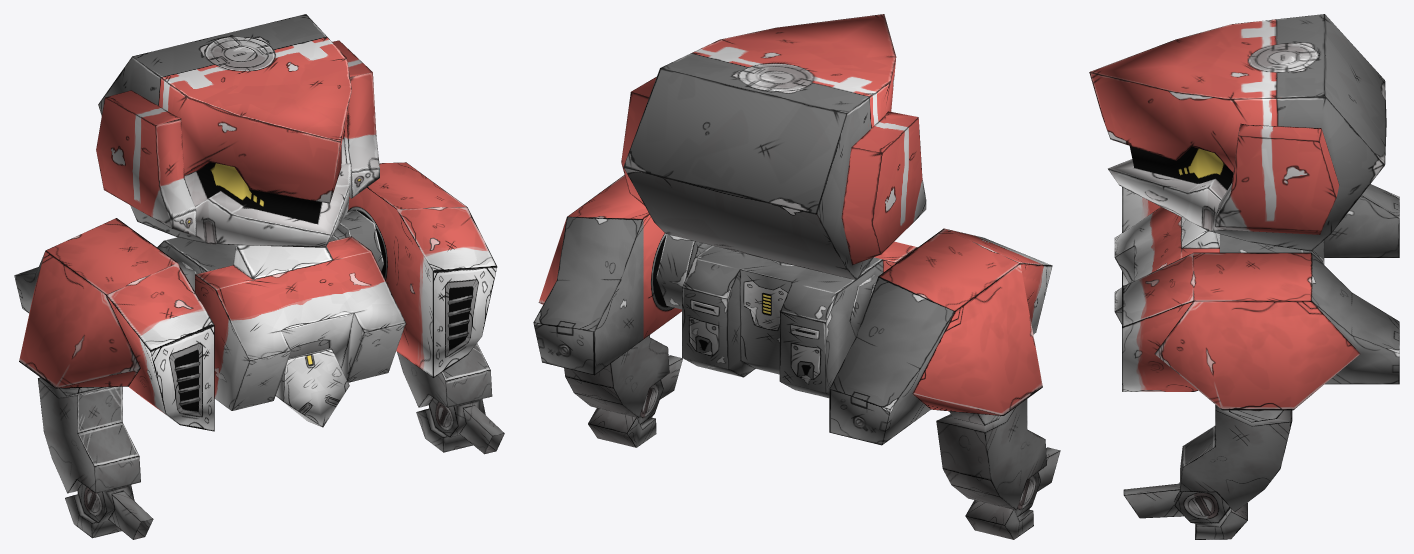
Rendered from P1MechTorso_V1.fbx.
The picture shows the model from 3 angles, left to right: view 1: azimuth 30°, elevation 25°; view 2: azimuth 150°, elevation 25°; view 3: azimuth 270°, elevation 25°; orthographic projection. The views are drawn at different scales.
Parts seen in each view (by area): view 1: LShoulder2; view 2: LShoulder2; view 3: LShoulder2.
Part boxes in pixels (<box>): LShoulder2: <box>14,14,504,539</box>; LShoulder2: <box>533,14,1060,539</box>; LShoulder2: <box>1089,14,1399,539</box>.
Size of the model in its own units: 2.94 by 2.64 by 1.89.
